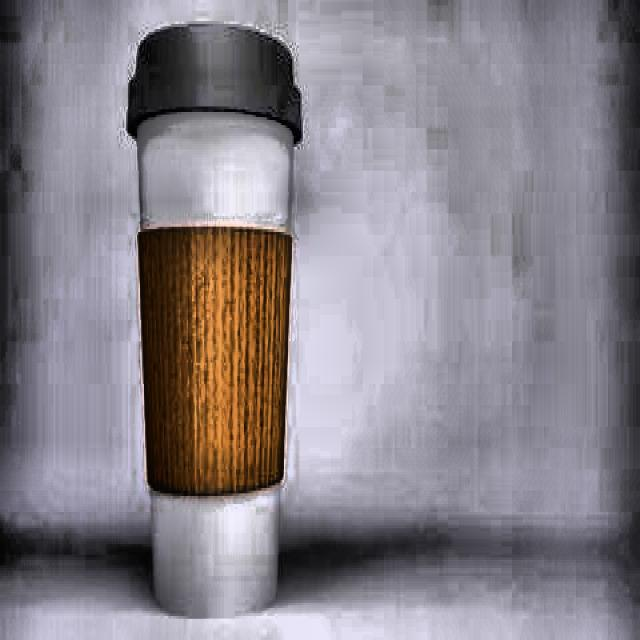Cup: (118, 67, 302, 616)
